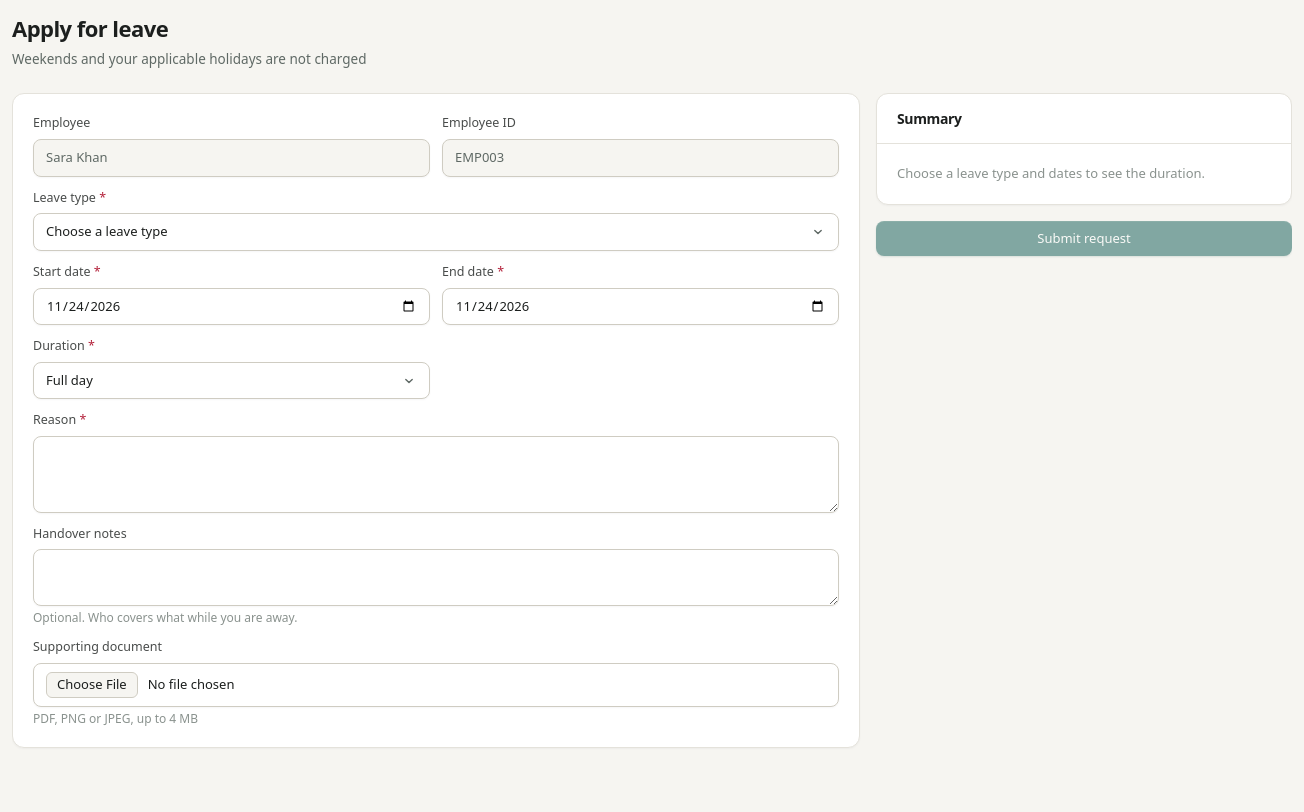
it: leave application form › fills in the employee and shows the duration the server calculated
Select "Casual Leave (CL)" in the dropdown labelled "Leave type *" at (436, 232), box top-left (33, 213), bottom-right (839, 251)
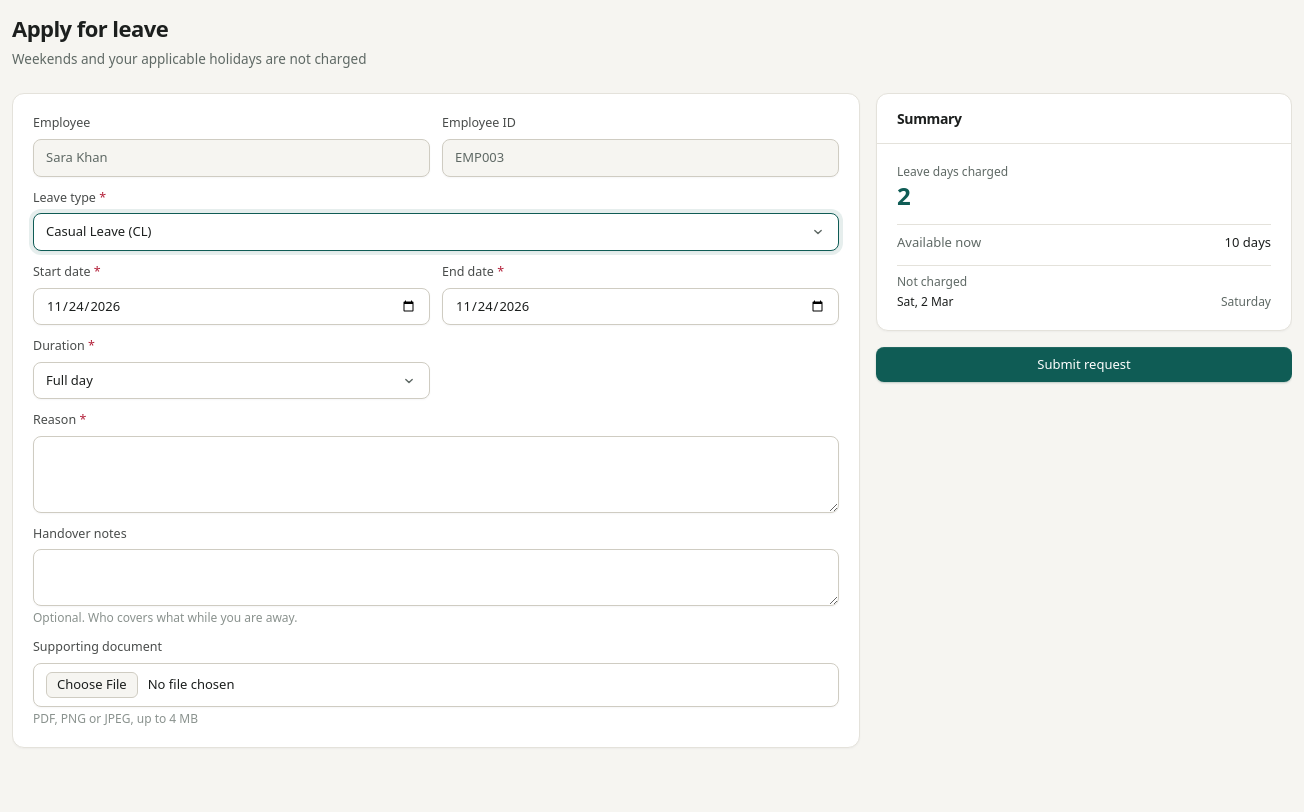
Expected: the field showing "Sara Khan" is disabled, top-left (33, 139), bottom-right (430, 176)
Expected: the text with test id "calculated-days" reads "2", top-left (897, 179), bottom-right (911, 212)
Expected: the text "Saturday" is shown, top-left (1221, 294), bottom-right (1271, 310)
